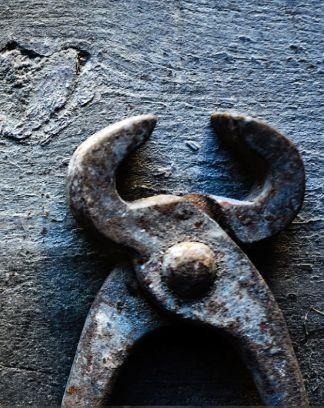metal: (60, 102, 311, 408)
